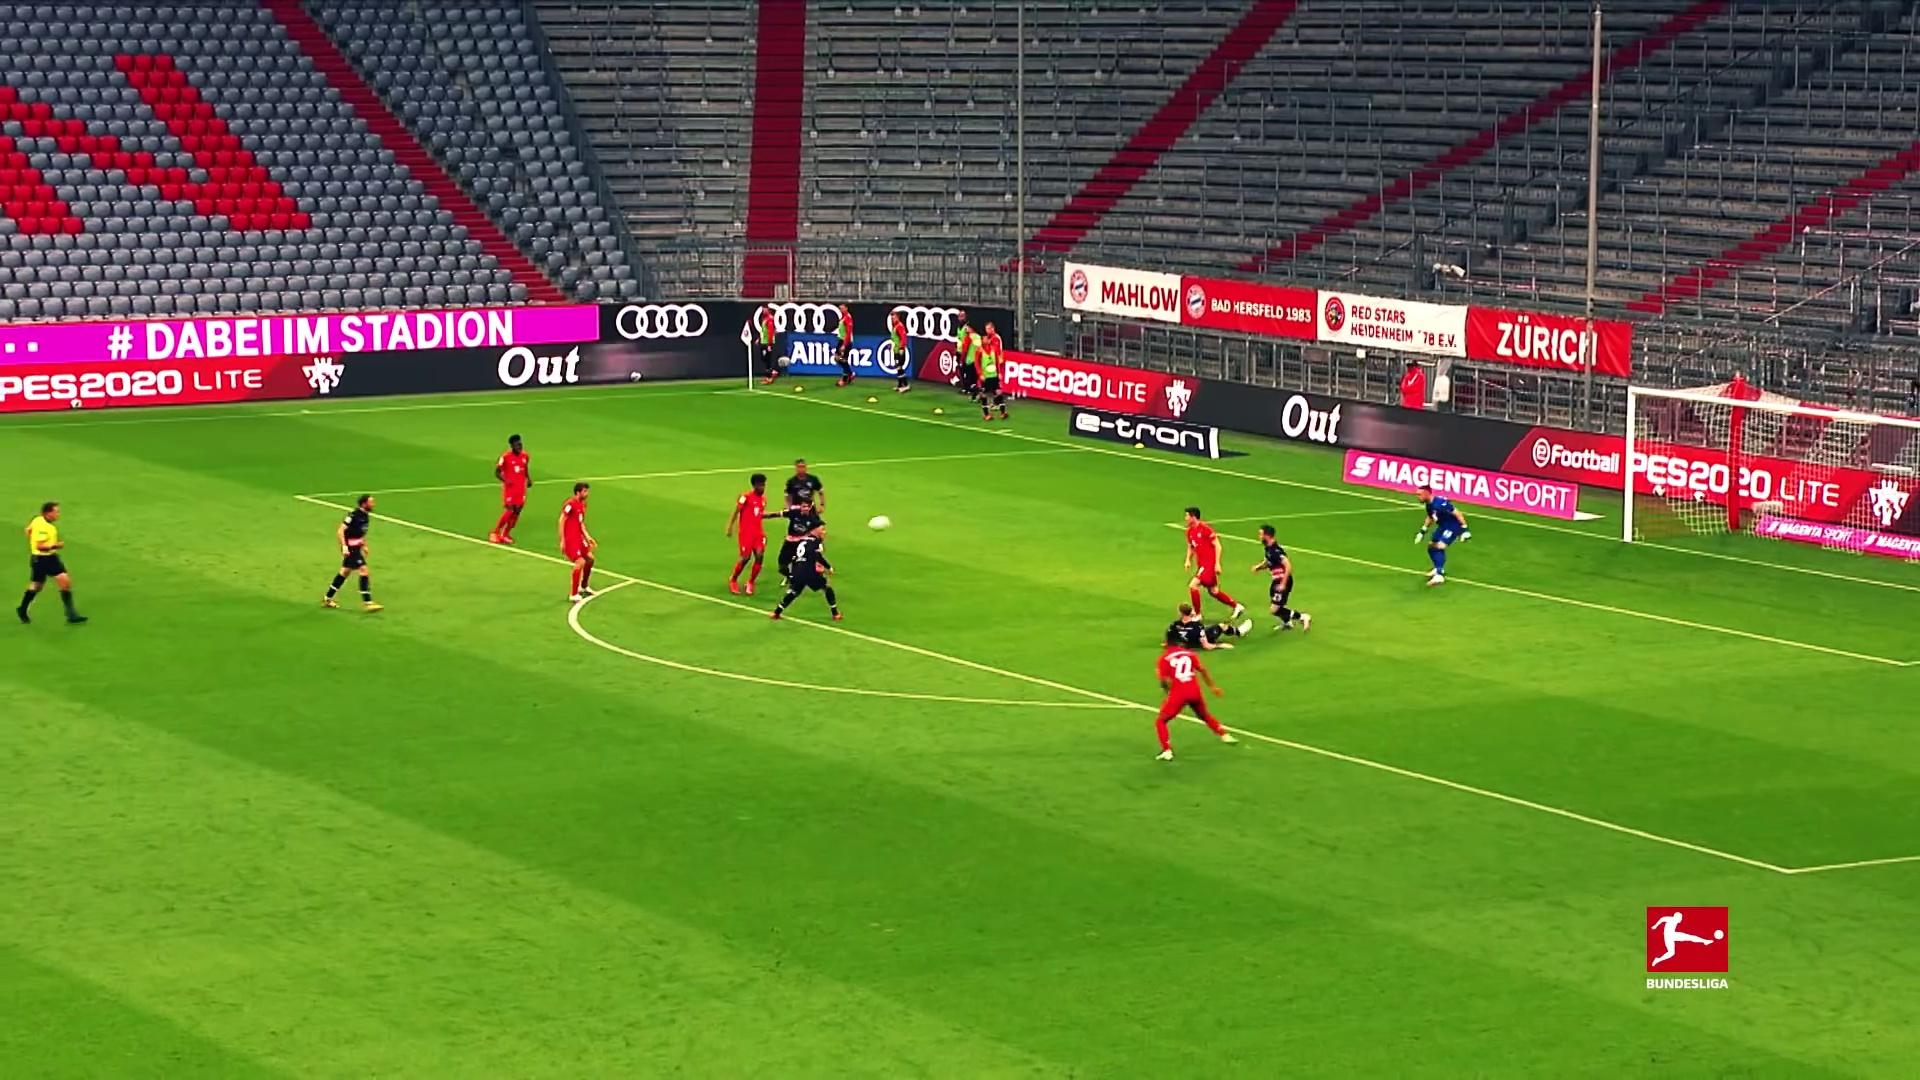ball: (864, 512, 893, 538), (627, 367, 647, 388), (1691, 489, 1710, 508), (68, 397, 87, 414), (1652, 482, 1667, 498)
goalkeeper: (1410, 482, 1477, 590)
player: (1151, 626, 1244, 765), (317, 489, 391, 618), (1177, 505, 1248, 626), (721, 468, 786, 600), (1249, 518, 1315, 637), (768, 523, 846, 623), (556, 478, 603, 603), (487, 431, 537, 546), (770, 499, 831, 589), (781, 456, 832, 555), (1158, 602, 1254, 653), (968, 333, 1015, 422), (886, 309, 914, 396), (832, 301, 859, 391), (975, 321, 1004, 401), (757, 303, 780, 389), (959, 325, 984, 402), (955, 309, 974, 395)
referee: (14, 497, 95, 635)
